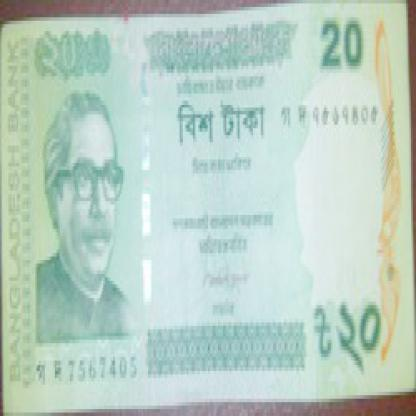Twenty: (310, 298, 388, 378), (308, 11, 386, 84), (170, 94, 273, 149), (36, 28, 114, 83)
